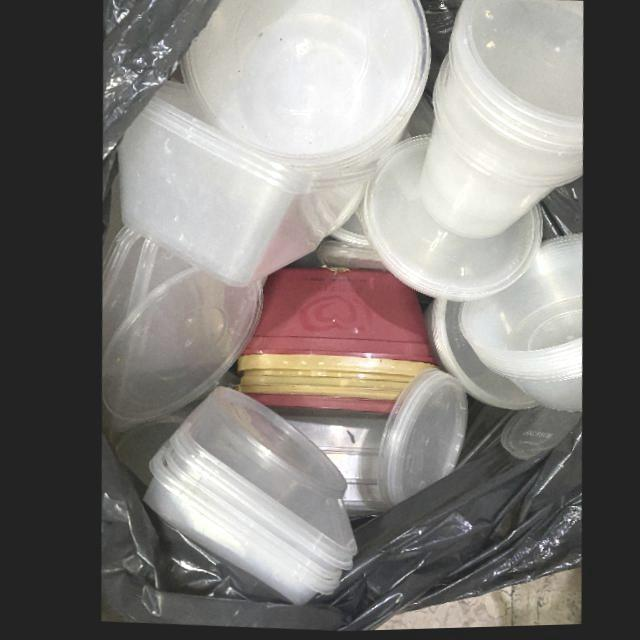plastic_container: (114, 80, 371, 288), (134, 385, 349, 606), (176, 0, 429, 180), (417, 0, 583, 240), (358, 135, 539, 303), (227, 268, 432, 414), (453, 235, 579, 414)
